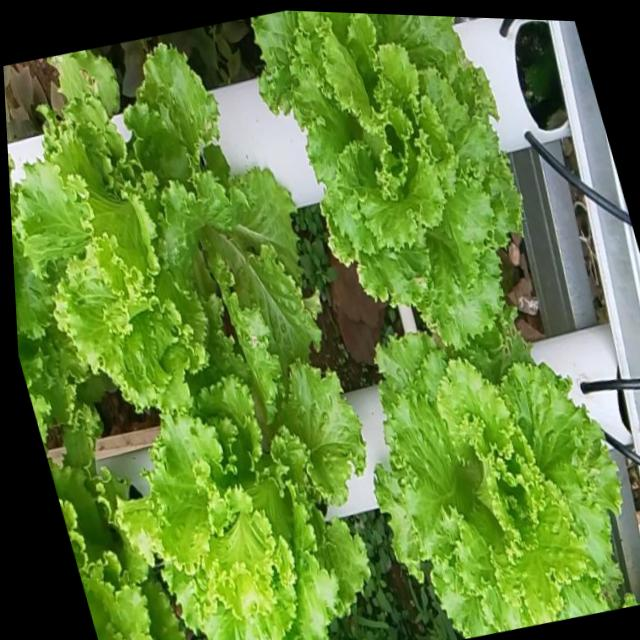Mature: (33, 53, 321, 406), (255, 11, 513, 350), (374, 306, 640, 630), (125, 350, 370, 640)
